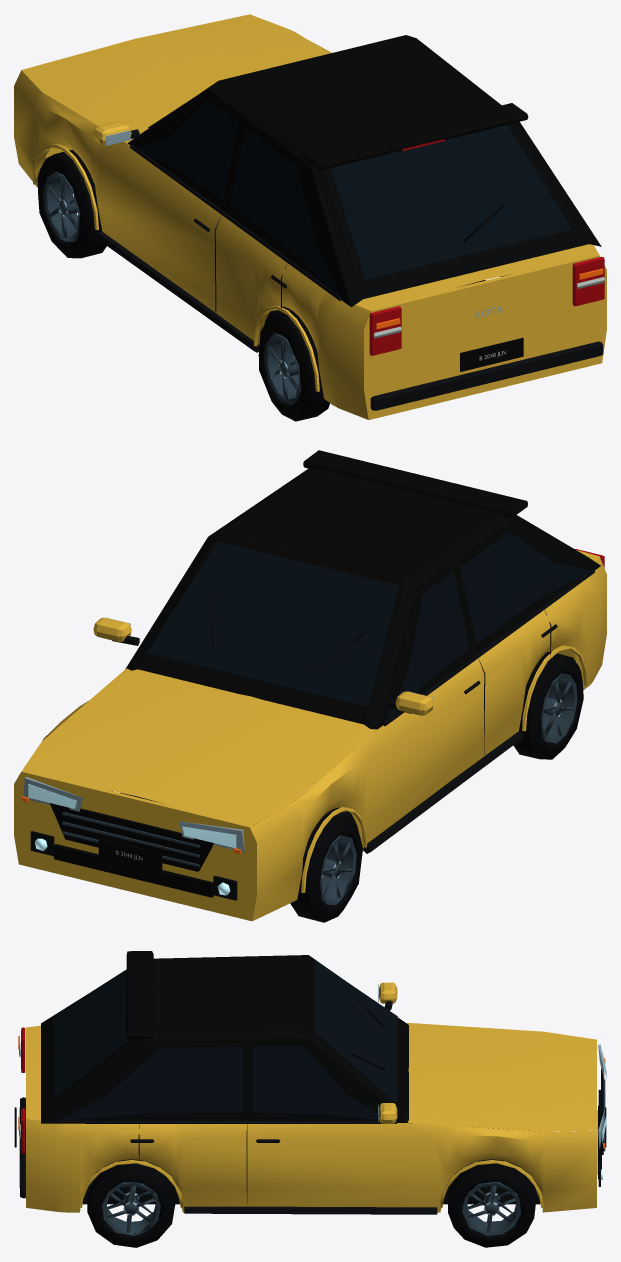
File: city_hatchback_sunflower_lod1.glb
3 renders of one model, top to bottom at view 1: azimuth 30°, elevation 25°; view 2: azimuth 150°, elevation 25°; view 3: azimuth 270°, elevation 25°, orthographic. The views are drawn at different scales.
Parts seen in each view (by area): view 1: Body_Mesh, Wheel_RL_Mesh, Wheel_FL_Mesh, TailLights_Mesh; view 2: Body_Mesh, Wheel_FL_Mesh, Wheel_RL_Mesh, Headlights_Mesh; view 3: Body_Mesh, Wheel_FR_Mesh, Wheel_RR_Mesh, TailLights_Mesh.
Boxes of the visible parts, x1=… form: Body_Mesh: x1=14, y1=14, x2=606, y2=419; Wheel_RL_Mesh: x1=258, y1=311, x2=329, y2=421; Wheel_FL_Mesh: x1=37, y1=149, x2=106, y2=258; TailLights_Mesh: x1=369, y1=139, x2=604, y2=355; Body_Mesh: x1=14, y1=450, x2=606, y2=921; Wheel_FL_Mesh: x1=290, y1=813, x2=362, y2=922; Wheel_RL_Mesh: x1=513, y1=652, x2=583, y2=759; Headlights_Mesh: x1=23, y1=777, x2=244, y2=895; Body_Mesh: x1=14, y1=951, x2=606, y2=1214; Wheel_FR_Mesh: x1=448, y1=1163, x2=535, y2=1247; Wheel_RR_Mesh: x1=87, y1=1160, x2=175, y2=1247; TailLights_Mesh: x1=19, y1=1027, x2=25, y2=1153.
Size of the model in its own units: 2.11 by 1.49 by 3.96.
Materials: 2 (1 with a texture image).
